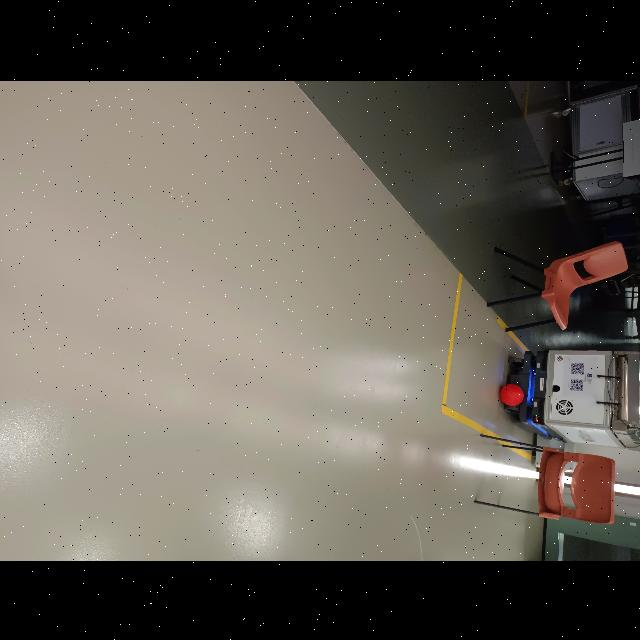R: (500, 382, 522, 403)
